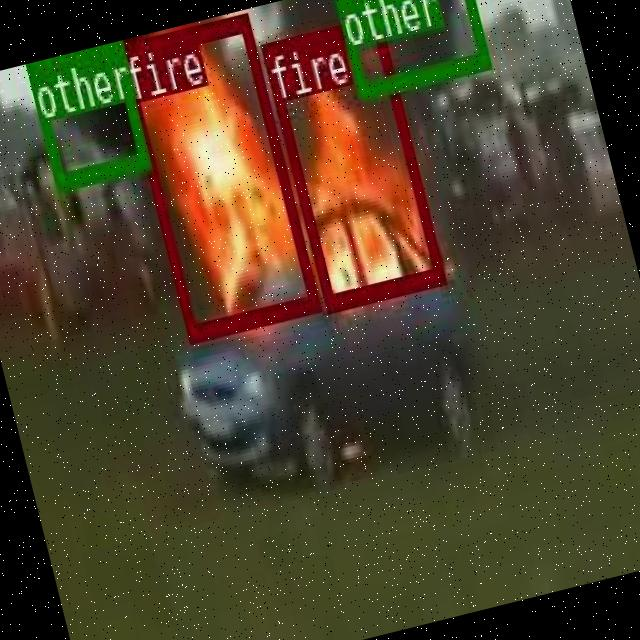fire: (114, 13, 317, 340), (258, 12, 444, 310)
